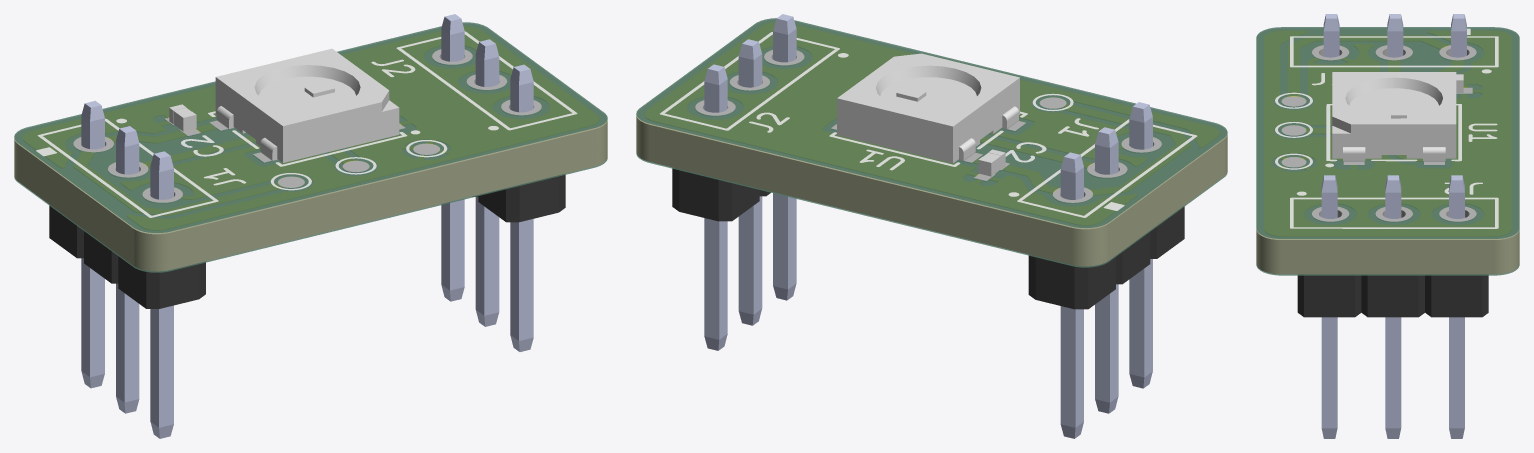
File: attentiolight-1-1ledmodule1.glb
3 views of the same model, side by side, from view 1: azimuth 30°, elevation 25°; view 2: azimuth 150°, elevation 25°; view 3: azimuth 270°, elevation 25° (orthographic). The views are drawn at different scales.
Parts seen in each view (by area): view 1: =>[0:1:1:10], =>[0:1:1:12], =>[0:1:1:5], U1, NAUO1 (×2), NAUO2 (×2), NAUO3 (×2), NAUO4 (×2), =>[0:1:1:8], =>[0:1:1:6], =>[0:1:1:11], C2; view 2: =>[0:1:1:10], =>[0:1:1:12], =>[0:1:1:5], U1, NAUO1 (×2), NAUO4 (×2), NAUO3 (×2), NAUO2 (×2), =>[0:1:1:8], =>[0:1:1:6], =>[0:1:1:11], C2; view 3: =>[0:1:1:10], =>[0:1:1:5], =>[0:1:1:12], U1, NAUO1, =>[0:1:1:8], NAUO3 (×2), NAUO2 (×2), NAUO4 (×2), =>[0:1:1:6], =>[0:1:1:11].
Part boxes in pixels (x1=…): =>[0:1:1:10]: x1=14, y1=22, x2=607, y2=232; =>[0:1:1:12]: x1=14, y1=24, x2=607, y2=271; =>[0:1:1:5]: x1=23, y1=26, x2=598, y2=230; U1: x1=215, y1=48, x2=399, y2=162; NAUO1 (×2): x1=49, y1=174, x2=565, y2=308; NAUO2 (×2): x1=81, y1=64, x2=533, y2=388; NAUO3 (×2): x1=116, y1=39, x2=499, y2=413; NAUO4 (×2): x1=150, y1=14, x2=464, y2=438; =>[0:1:1:8]: x1=36, y1=31, x2=577, y2=217; =>[0:1:1:6]: x1=73, y1=49, x2=541, y2=203; =>[0:1:1:11]: x1=14, y1=158, x2=607, y2=272; C2: x1=169, y1=104, x2=196, y2=131; =>[0:1:1:10]: x1=636, y1=18, x2=1227, y2=228; =>[0:1:1:12]: x1=636, y1=20, x2=1227, y2=266; =>[0:1:1:5]: x1=645, y1=22, x2=1218, y2=225; U1: x1=837, y1=53, x2=1019, y2=163; NAUO1 (×2): x1=672, y1=168, x2=1184, y2=309; NAUO4 (×2): x1=704, y1=64, x2=1152, y2=388; NAUO3 (×2): x1=738, y1=39, x2=1118, y2=413; NAUO2 (×2): x1=773, y1=14, x2=1083, y2=438; =>[0:1:1:8]: x1=660, y1=32, x2=1197, y2=217; =>[0:1:1:6]: x1=695, y1=50, x2=1161, y2=203; =>[0:1:1:11]: x1=636, y1=152, x2=1227, y2=267; C2: x1=978, y1=149, x2=1005, y2=176; =>[0:1:1:10]: x1=1256, y1=27, x2=1519, y2=238; =>[0:1:1:5]: x1=1264, y1=31, x2=1511, y2=236; =>[0:1:1:12]: x1=1256, y1=29, x2=1519, y2=274; U1: x1=1332, y1=72, x2=1456, y2=161; NAUO1: x1=1297, y1=275, x2=1488, y2=317; =>[0:1:1:8]: x1=1275, y1=28, x2=1498, y2=228; NAUO3 (×2): x1=1385, y1=14, x2=1403, y2=438; NAUO2 (×2): x1=1321, y1=14, x2=1466, y2=438; NAUO4 (×2): x1=1323, y1=14, x2=1464, y2=438; =>[0:1:1:6]: x1=1281, y1=45, x2=1476, y2=222; =>[0:1:1:11]: x1=1256, y1=264, x2=1519, y2=275.
Size of the model in its own units: 0.02 by 0.0114 by 0.0105.
